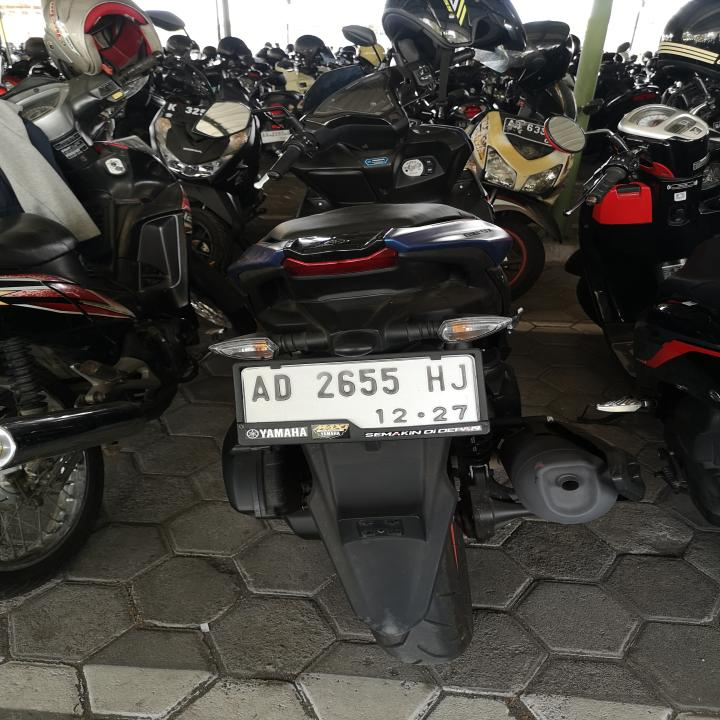plate: (226, 354, 504, 442), (501, 115, 554, 148)
